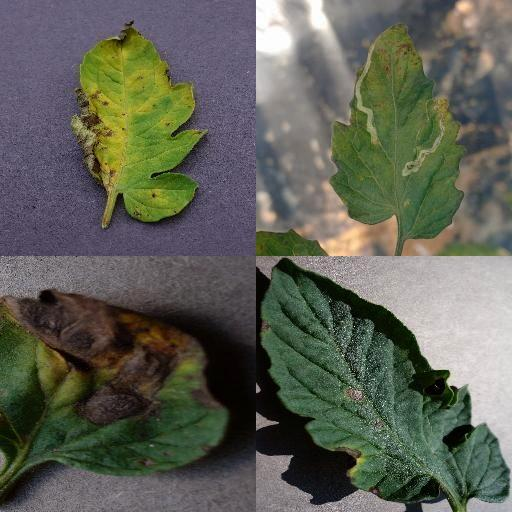Early Blight: (262, 263, 512, 505), (1, 288, 231, 478)
Leaf Miner: (326, 23, 468, 241)
Septoria: (71, 20, 210, 222)
